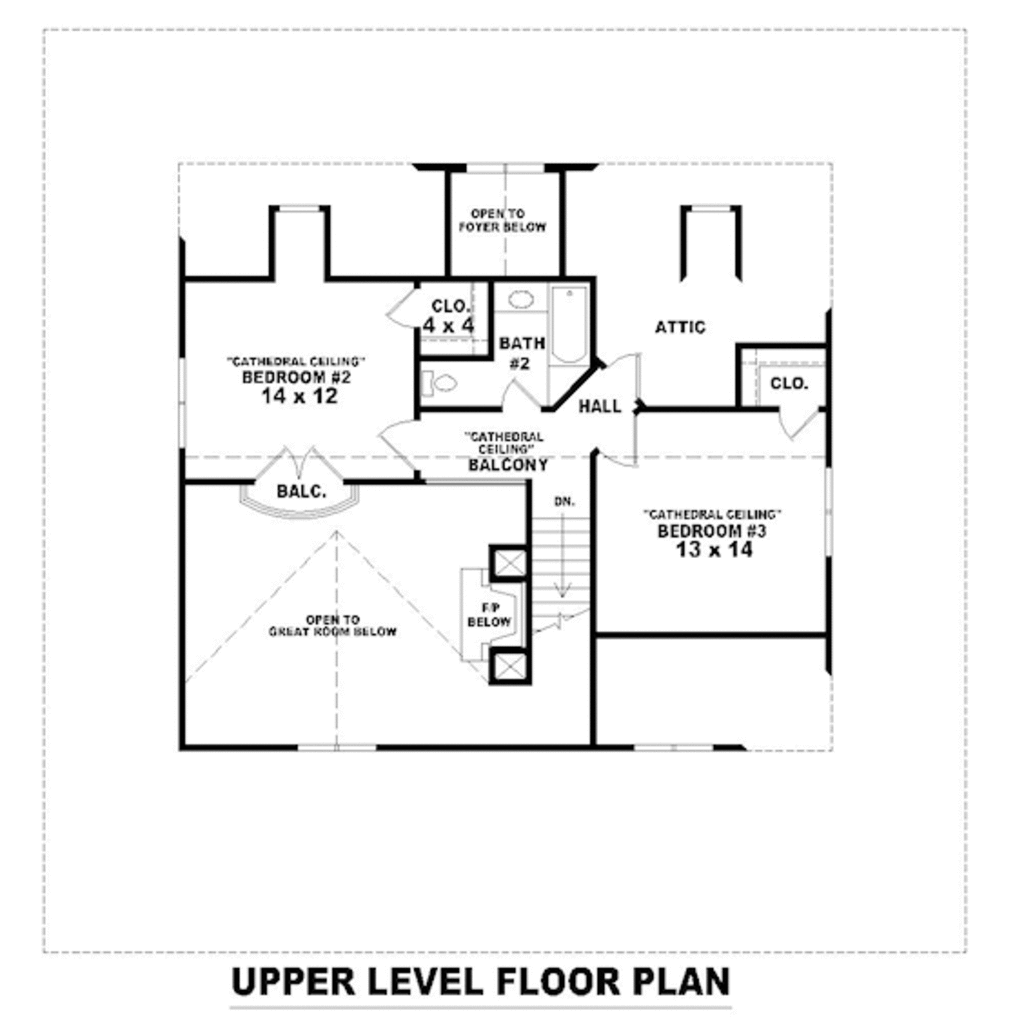door: (248, 443, 343, 491), (592, 413, 650, 476), (375, 416, 424, 471), (609, 348, 650, 399), (378, 287, 431, 326), (776, 404, 823, 444), (495, 378, 545, 414)
large_sink: (417, 364, 459, 404)
small_sink: (488, 284, 548, 313)
stairs: (530, 506, 588, 644)
tub: (546, 283, 596, 368)
windows: (817, 467, 838, 559), (454, 157, 552, 176), (172, 354, 190, 453), (626, 738, 714, 757), (287, 742, 392, 756)
